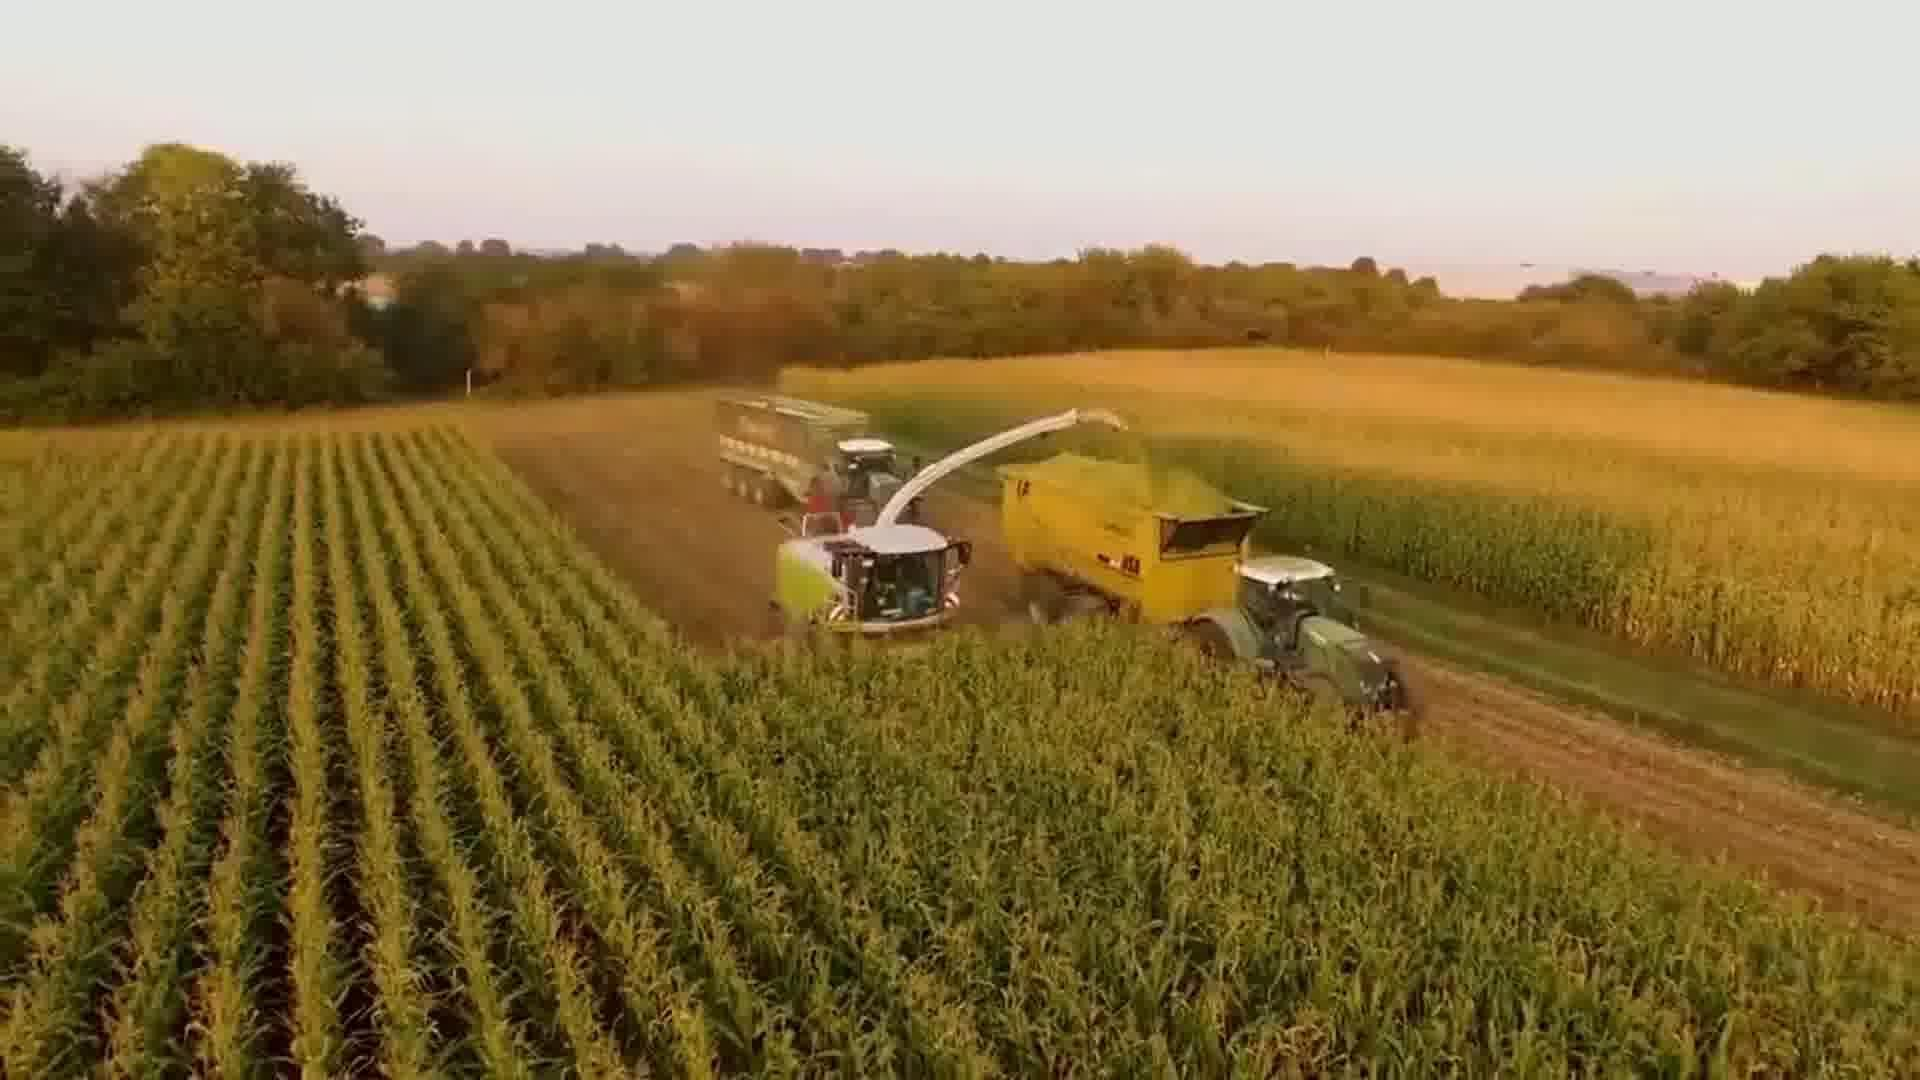combine harvester: (750, 401, 1101, 687)
tractor: (1183, 539, 1417, 741), (807, 429, 919, 533)
trailer: (997, 449, 1269, 663), (713, 386, 876, 524)
